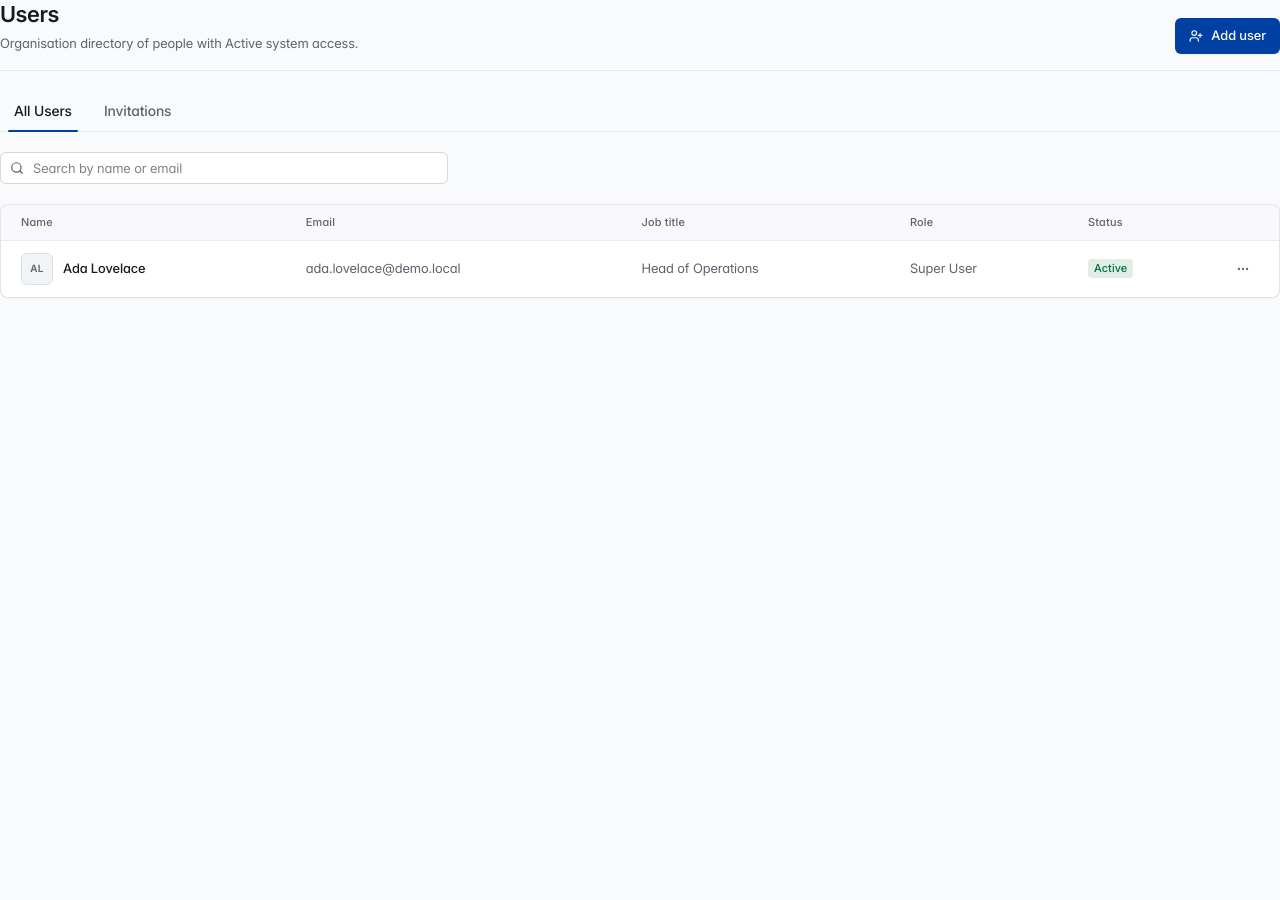
UsersListPage user details › opens user details from the row actions menu
Expected: the text "Ada Lovelace" is shown, [63,260,146,278]
Step 1. Click the button named "Actions for Ada Lovelace" → coordinates (1243, 269), box [1227,253,1259,285]
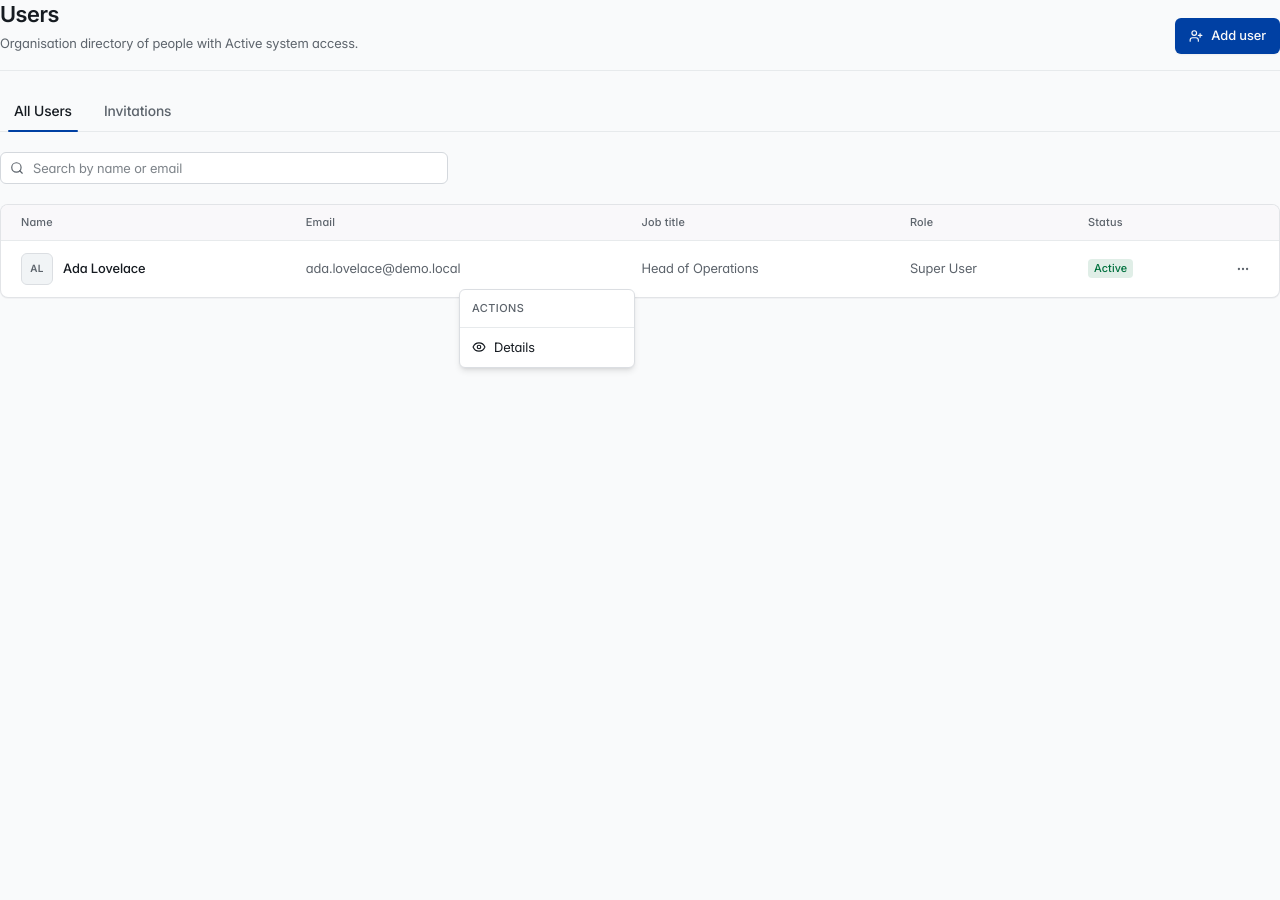
Step 2. Click the menu item "Details" → coordinates (503, 346), box [472,338,535,354]
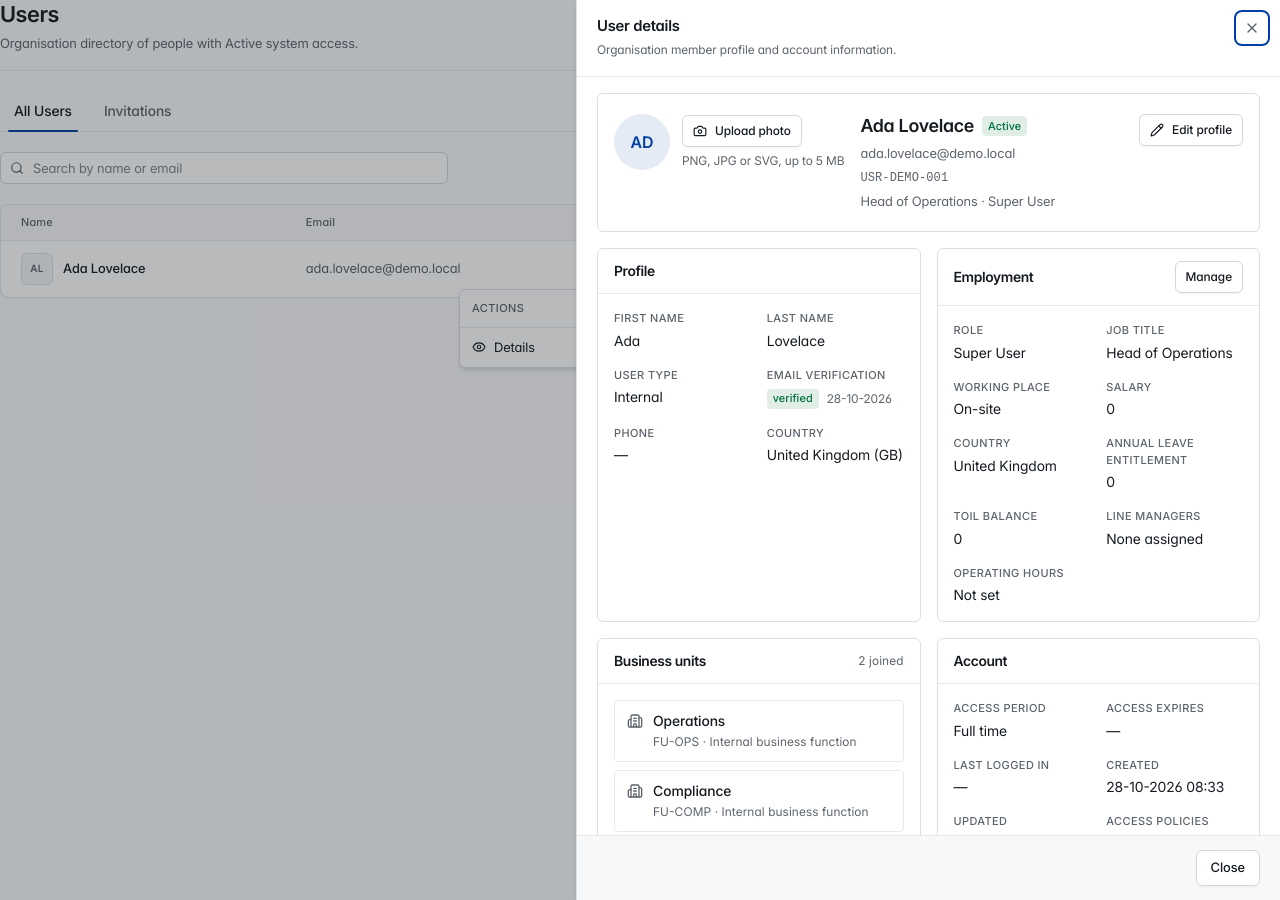
Result: the heading "User details" is shown at [597,16,680,35]
Result: the text "USR-DEMO-001" is shown at [860,170,948,184]
Result: the heading "Business units" is shown at [614,651,706,671]
